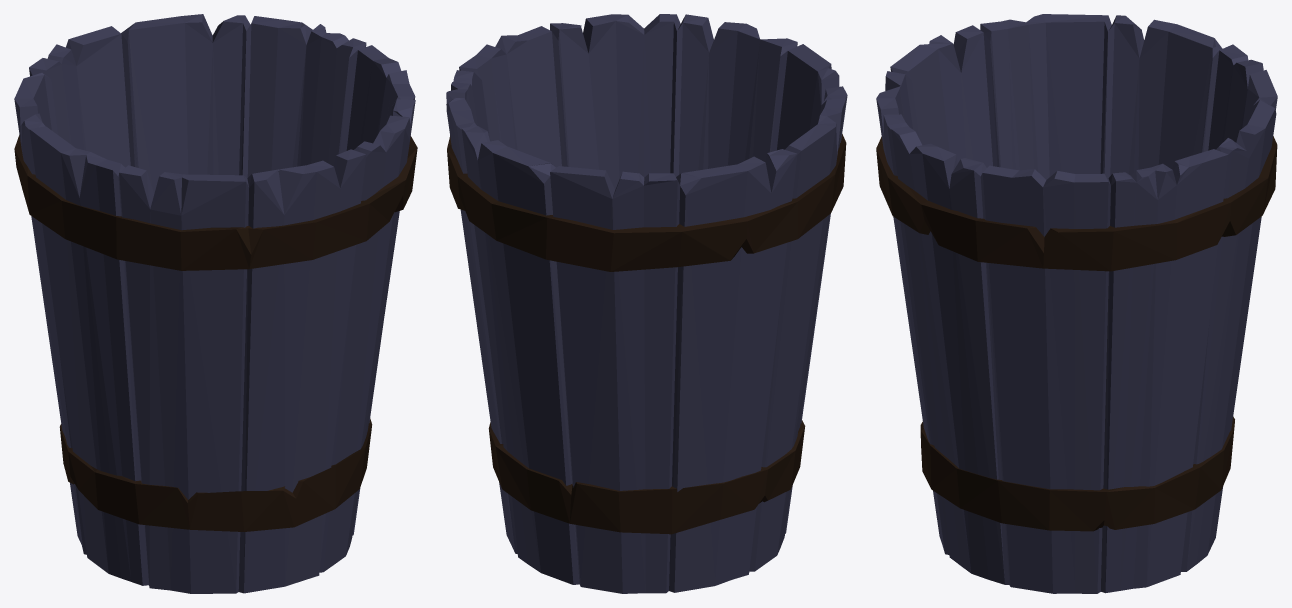
File: SFFA_Bucket_Empty_001.fbx
The picture shows the model from 3 angles, left to right: view 1: azimuth 30°, elevation 25°; view 2: azimuth 150°, elevation 25°; view 3: azimuth 270°, elevation 25°; orthographic projection.
Visible parts, largest first — view 1: SFFA_Bucket_Empty_001; view 2: SFFA_Bucket_Empty_001; view 3: SFFA_Bucket_Empty_001.
Part boxes in pixels (x1,y1,x2,y2): SFFA_Bucket_Empty_001: [14, 14, 417, 593]; SFFA_Bucket_Empty_001: [446, 14, 847, 593]; SFFA_Bucket_Empty_001: [876, 14, 1277, 593].
Bounding box in the file's own units: 52.82 × 64.51 × 53.13.
